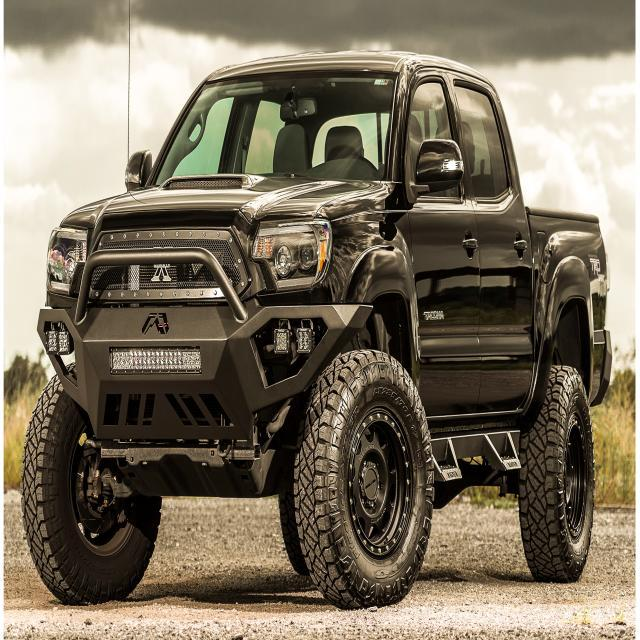person: (20, 45, 612, 610)
